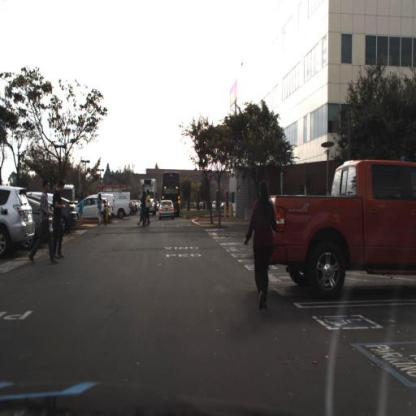car: (265, 158, 415, 302), (2, 185, 36, 263), (29, 194, 51, 246), (80, 195, 112, 226), (159, 199, 175, 222), (161, 200, 177, 221)
pedestrian: (245, 180, 280, 315), (30, 178, 52, 266), (54, 181, 68, 264), (95, 194, 104, 228), (140, 186, 147, 226), (96, 192, 103, 228), (146, 190, 153, 226), (142, 185, 148, 225), (146, 190, 152, 229), (103, 201, 110, 224), (104, 198, 109, 228)
truck: (161, 171, 182, 217), (137, 177, 157, 219), (162, 170, 184, 207), (111, 186, 134, 221), (139, 179, 158, 219)
